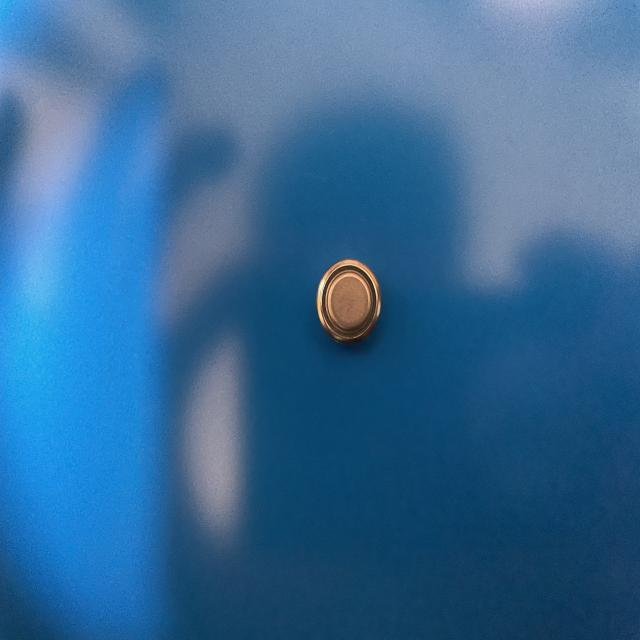COIN: (315, 257, 382, 348)
